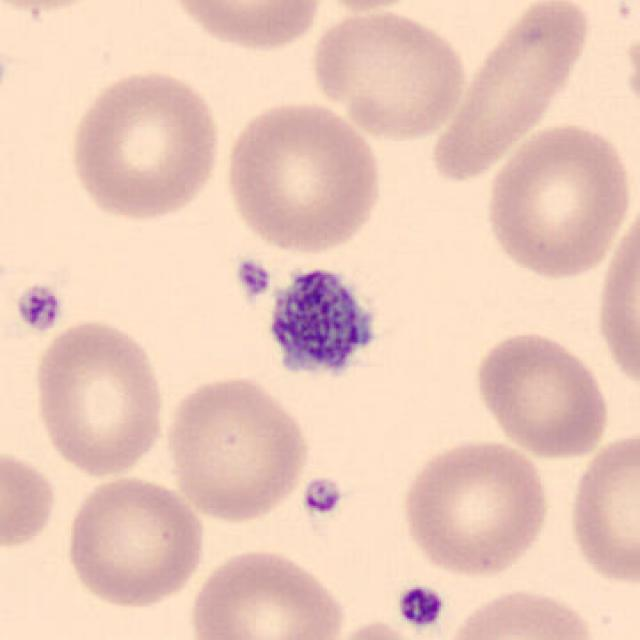Platelets: (262, 263, 382, 384), (12, 280, 64, 335), (395, 582, 448, 631), (298, 474, 346, 518), (233, 256, 272, 302)
RBC: (438, 0, 587, 180), (218, 97, 386, 256), (62, 65, 226, 224), (478, 118, 635, 282), (162, 370, 313, 526), (28, 316, 170, 480), (306, 3, 471, 143), (396, 434, 553, 580), (60, 473, 208, 610), (469, 326, 614, 460), (185, 545, 348, 640), (564, 427, 638, 590), (592, 194, 638, 402), (439, 583, 602, 640), (160, 0, 325, 53), (0, 442, 60, 557), (318, 615, 450, 640), (620, 9, 640, 137), (297, 0, 441, 14), (0, 0, 119, 16)
